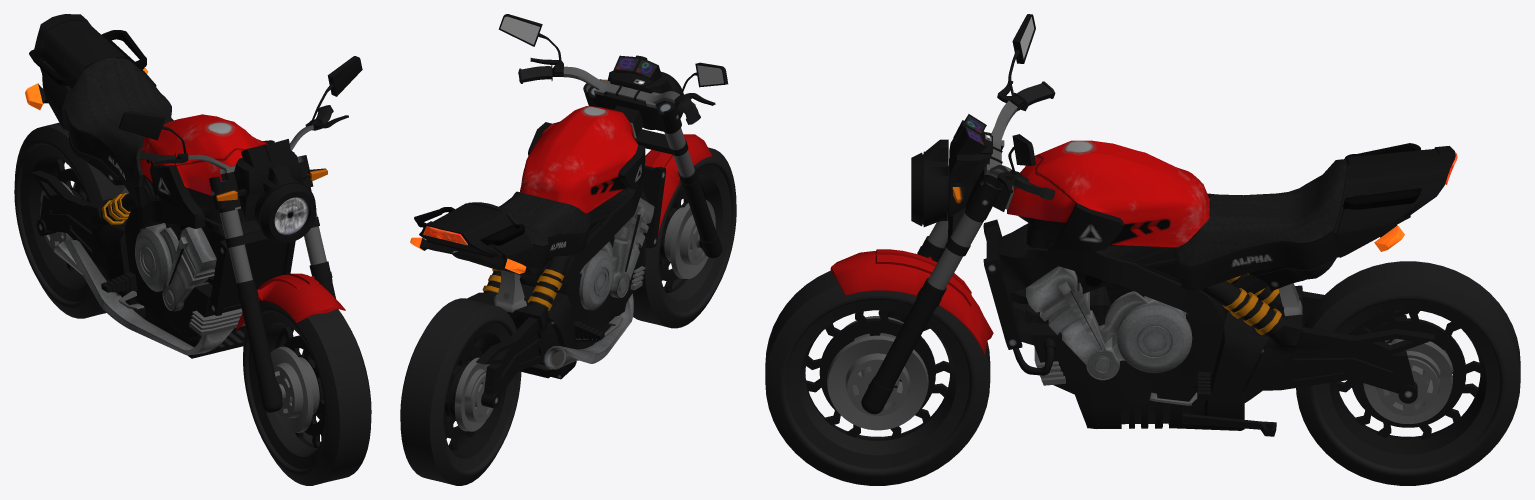
The model's file is motorcycle (1).glb.
3 views of the same model, side by side, from view 1: azimuth 30°, elevation 25°; view 2: azimuth 150°, elevation 25°; view 3: azimuth 270°, elevation 25° (orthographic). The views are drawn at different scales.
Parts seen in each view (by area): view 1: Plane; view 2: Plane; view 3: Plane.
Part boxes in pixels (bbox=[...]): Plane: bbox=[14, 14, 371, 485]; Plane: bbox=[400, 14, 736, 485]; Plane: bbox=[765, 14, 1520, 485].
Size of the model in its own units: 1.16 by 1.57 by 2.69.
Materials: 11 (10 with a texture image).
